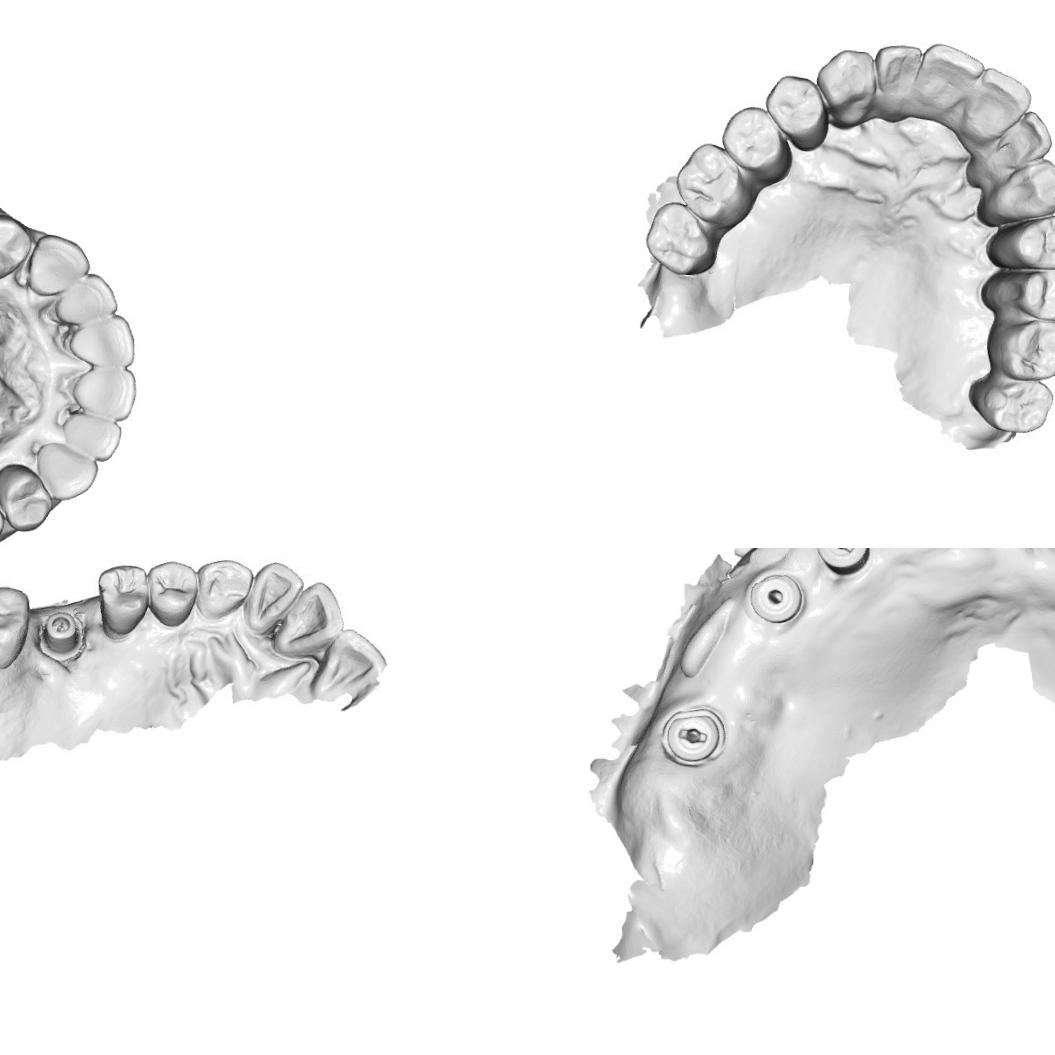abutment: (40, 604, 85, 654)
canine: (812, 47, 878, 128), (990, 155, 1055, 224), (26, 230, 92, 297), (31, 439, 99, 504), (196, 556, 251, 624)
implant: (750, 576, 802, 626)
implant_minus: (660, 702, 725, 766), (812, 548, 873, 575)
incisor: (303, 624, 386, 706), (271, 579, 348, 659), (962, 62, 1032, 141), (242, 556, 308, 634), (919, 40, 984, 112), (990, 105, 1055, 175), (64, 312, 138, 370), (66, 364, 140, 422), (53, 269, 123, 328), (873, 40, 925, 113), (59, 412, 126, 464)
molar: (674, 139, 746, 224), (640, 199, 716, 279), (979, 372, 1055, 437), (995, 315, 1055, 383), (0, 583, 33, 670)
premolar: (760, 70, 829, 149), (720, 105, 788, 178), (92, 557, 152, 638), (0, 461, 53, 534), (145, 557, 196, 631), (1008, 210, 1055, 274), (1008, 263, 1055, 323), (0, 211, 35, 282)
